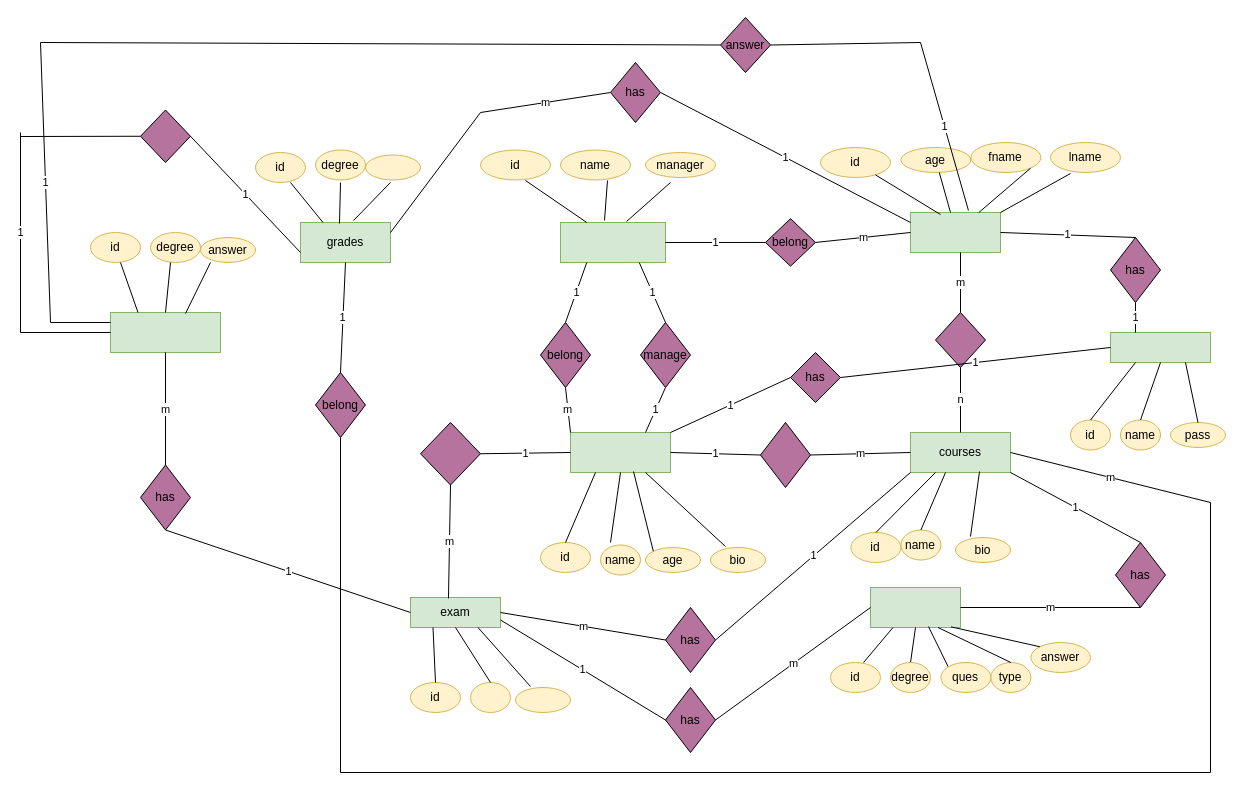
Image size: 1243x791. Some labels were removed from this diagram. Each missing label, with the centre of its shape:
account: the point at 1160,347
choice: the point at 542,699
departments: the point at 613,242
generate: the point at 450,453
instructors: the point at 620,452
questions: the point at 915,607
record: the point at 165,135
score: the point at 392,167
studAnswers: the point at 165,332
students: the point at 955,232
study: the point at 960,340
t/f: the point at 490,697
teach: the point at 785,455
